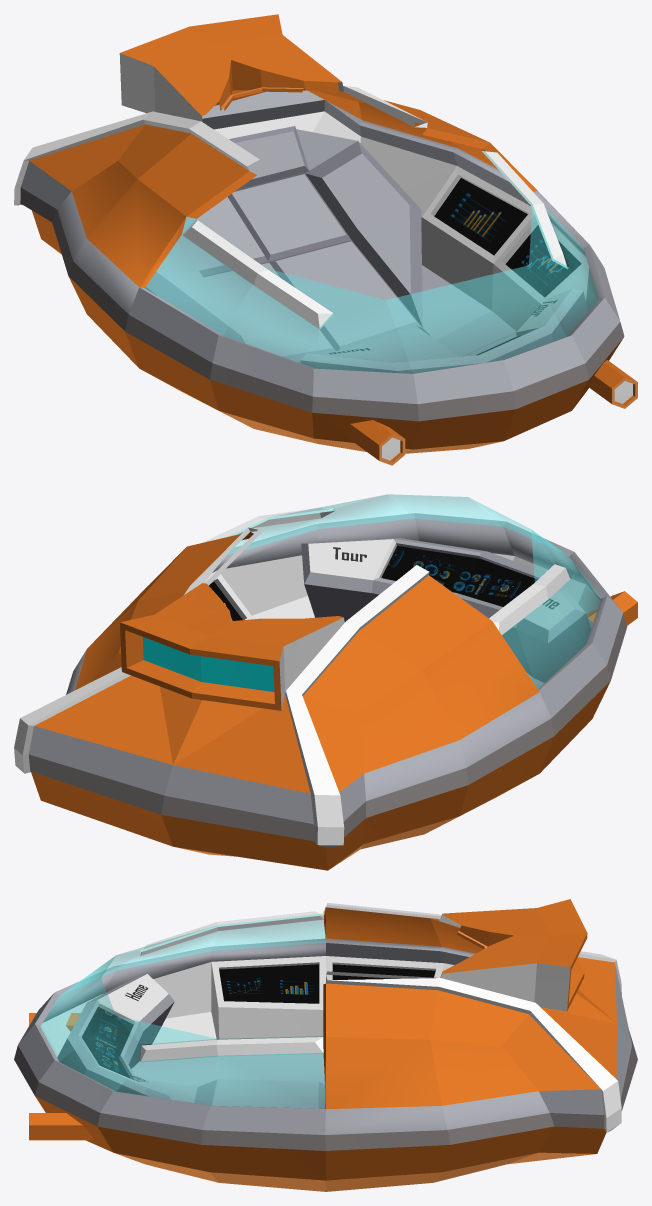
Rendered from spaceship3.glb.
The picture shows the model from 3 angles, top to bottom: view 1: azimuth 30°, elevation 25°; view 2: azimuth 150°, elevation 25°; view 3: azimuth 270°, elevation 25°; orthographic projection. The views are drawn at different scales.
Parts seen in each view (by area): view 1: SpaceShip_01; view 2: SpaceShip_01; view 3: SpaceShip_01.
Part boxes in pixels (<box>): SpaceShip_01: <box>14,14,637,465</box>; SpaceShip_01: <box>14,494,637,870</box>; SpaceShip_01: <box>14,899,637,1191</box>.
Size of what is drawn, in the model's own units: 4.59 by 2.53 by 6.62.
Materials: 6 (4 with a texture image).
